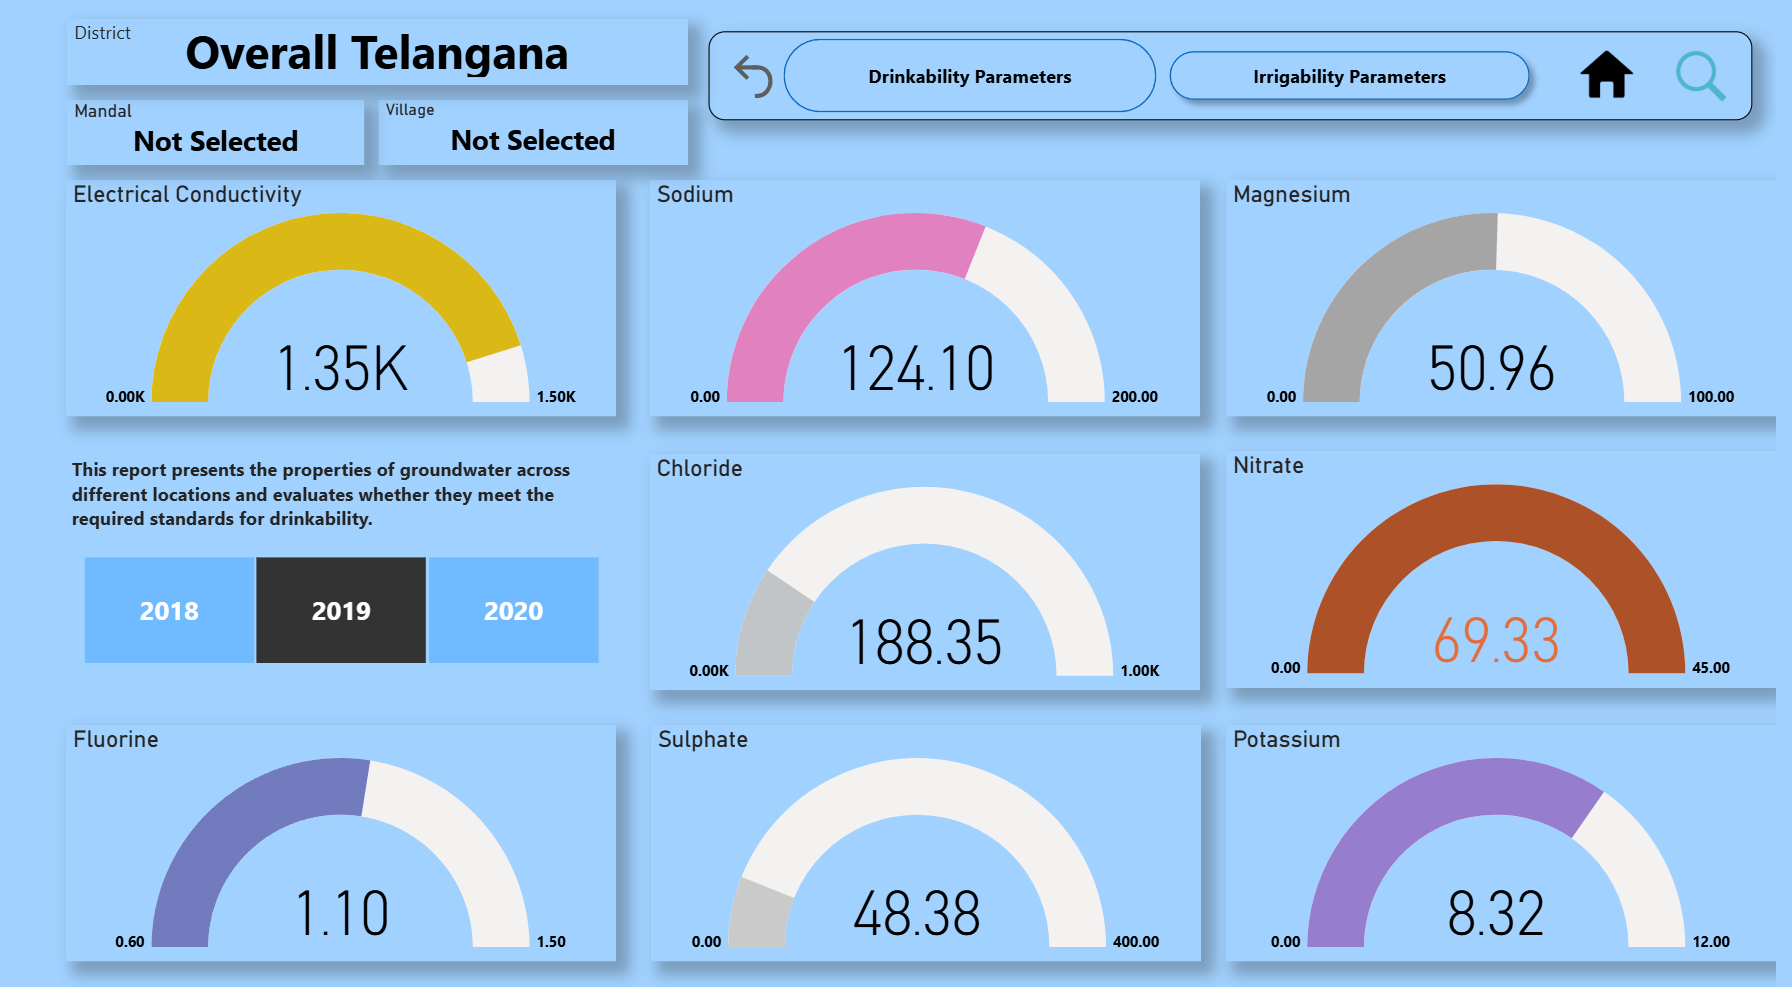

This screenshot's page, from the dashboard's own definition file:
{"tool":"powerbi","page":{"name":"Drinkability Parameters","canvas":[1280,720],"ordinal":2},"visuals":[{"type":"card","title":"District","fields":{"Values":["Water Measures.Drill District"]},"box":[37.3,12.8,451.3,47.8],"z":0,"group":"g1"},{"type":"shape","title":"Base Bar","box":[503.5,23.1,758.9,64.9],"z":0},{"type":"gauge","title":"Electrical Conductivity","fields":{"Y":["Water Measures.Electrical Conductivity"]},"box":[36.1,131.3,399.6,171.7],"z":0,"group":"g2"},{"type":"card","title":"Mandal","fields":{"Values":["Water Measures.Drill Mandal"]},"box":[37.5,71.9,216.3,47.5],"z":1000,"group":"g1"},{"type":"gauge","fields":{"Y":["Water Measures.Magnesium"]},"box":[880.1,131.3,399.6,171.7],"z":1000,"group":"g2"},{"type":"slicer","title":"Year Filter","fields":{"Values":["Cleaned Data.Year"]},"box":[23.9,398.5,423.9,91],"z":1000},{"type":"actionButton","title":"Reset View","box":[515.1,34.6,43.3,41.8],"z":2000},{"type":"card","title":"Village","fields":{"Values":["Water Measures.Drill Village"]},"box":[263.9,71.9,225,47.5],"z":2000,"group":"g1"},{"type":"gauge","fields":{"Y":["Water Measures.Sodium"]},"box":[460.3,131.3,399.6,171.7],"z":2000,"group":"g2"},{"type":"group","id":"g1","title":"Location Name Boxes","box":[37.3,8.7,451.6,110.7],"z":3000},{"type":"textbox","box":[37.3,8.7,73.4,32.7],"z":3000,"group":"g1"},{"type":"gauge","fields":{"Y":["Water Measures.Chloride"]},"box":[460.3,330.4,399.6,171.7],"z":3000,"group":"g2"},{"type":"shape","title":"Drink Navi","box":[558.5,28.6,271.2,53.5],"z":4000},{"type":"gauge","fields":{"Y":["Water Measures.Nitrate"]},"box":[880.1,329,399.6,171.7],"z":4000,"group":"g2"},{"type":"shape","title":"Irrig Navi","box":[829.7,28.6,279.9,53.5],"z":5000},{"type":"gauge","fields":{"Y":["Water Measures.Fluorine"]},"box":[36.1,527.3,399.6,171.7],"z":5000,"group":"g2"},{"type":"gauge","fields":{"Y":["Water Measures.Sulphate"]},"box":[461.7,528.1,399.6,171.7],"z":6000,"group":"g2"},{"type":"image","title":"Search Button","box":[1170.5,26.1,109.5,58.5],"z":7000},{"type":"gauge","fields":{"Y":["Water Measures.Potassium"]},"box":[880.1,528.1,399.6,171.7],"z":7000,"group":"g2"},{"type":"image","title":"Home","box":[1094.7,29.9,124.4,48.5],"z":8000},{"type":"group","id":"g2","title":"All Gauges","box":[36.1,131.3,1243.7,568.4],"z":9000},{"type":"textbox","box":[35.8,326.9,400,65.7],"z":11000}]}

Visuals, with their boxes in screenshot pixels (x1, y1, x2, y2), scaled from the page's 1280x720 canvas onto the 1792x987 screenshot:
"District" card: select_region(52, 18, 684, 83)
"Base Bar" shape: select_region(705, 32, 1767, 121)
"Electrical Conductivity" gauge: select_region(51, 180, 610, 415)
"Mandal" card: select_region(52, 99, 355, 164)
gauge - Water Measures.Magnesium: select_region(1232, 180, 1791, 415)
"Year Filter" slicer: select_region(33, 546, 627, 671)
"Reset View" actionButton: select_region(721, 47, 782, 105)
"Village" card: select_region(369, 99, 684, 164)
gauge - Water Measures.Sodium: select_region(644, 180, 1204, 415)
"Location Name Boxes" group: select_region(52, 12, 684, 164)
textbox: select_region(52, 12, 155, 57)
gauge - Water Measures.Chloride: select_region(644, 453, 1204, 688)
"Drink Navi" shape: select_region(782, 39, 1162, 113)
gauge - Water Measures.Nitrate: select_region(1232, 451, 1791, 686)
"Irrig Navi" shape: select_region(1162, 39, 1553, 113)
gauge - Water Measures.Fluorine: select_region(51, 723, 610, 958)
gauge - Water Measures.Sulphate: select_region(646, 724, 1206, 959)
"Search Button" image: select_region(1639, 36, 1791, 116)
gauge - Water Measures.Potassium: select_region(1232, 724, 1791, 959)
"Home" image: select_region(1533, 41, 1707, 107)
"All Gauges" group: select_region(51, 180, 1791, 959)
textbox: select_region(50, 448, 610, 538)
